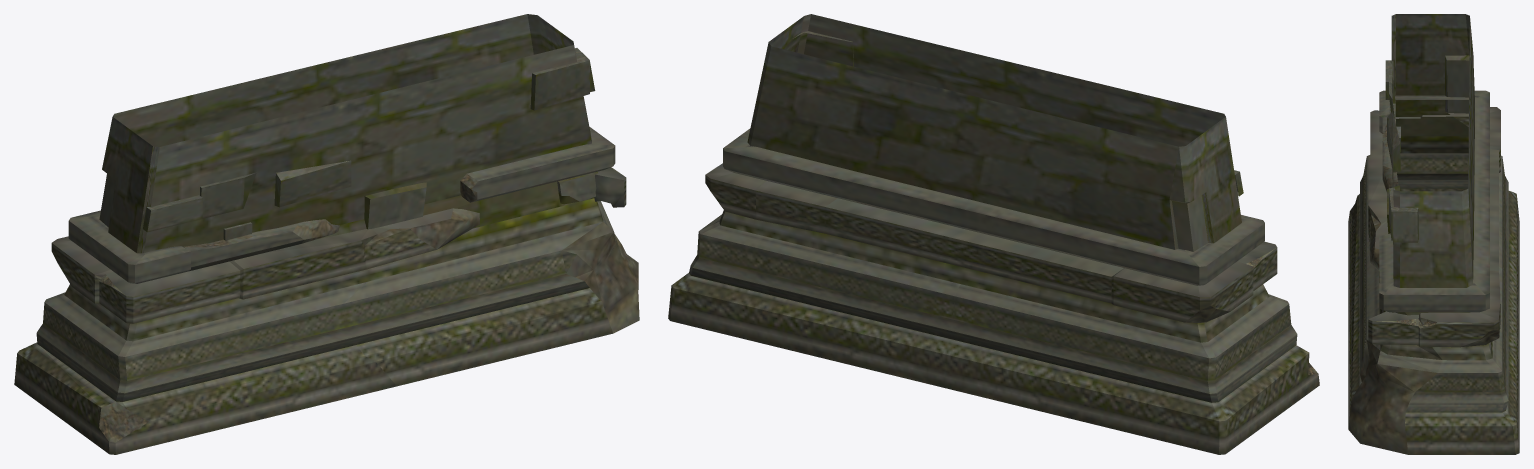
Rendered from S2_Build_XSC065_a.FBX.
3 views of the same model, side by side, from view 1: azimuth 30°, elevation 25°; view 2: azimuth 150°, elevation 25°; view 3: azimuth 270°, elevation 25° (orthographic). The views are drawn at different scales.
Visible parts, largest first — view 1: S2_Build_XSC065_a; view 2: S2_Build_XSC065_a; view 3: S2_Build_XSC065_a.
Boxes of the visible parts, x1,y1,x2,y2 form: S2_Build_XSC065_a: (14,14,639,454); S2_Build_XSC065_a: (668,14,1319,454); S2_Build_XSC065_a: (1348,14,1519,454).
Bounding box in the file's own units: 125 × 58.06 × 38.42.
